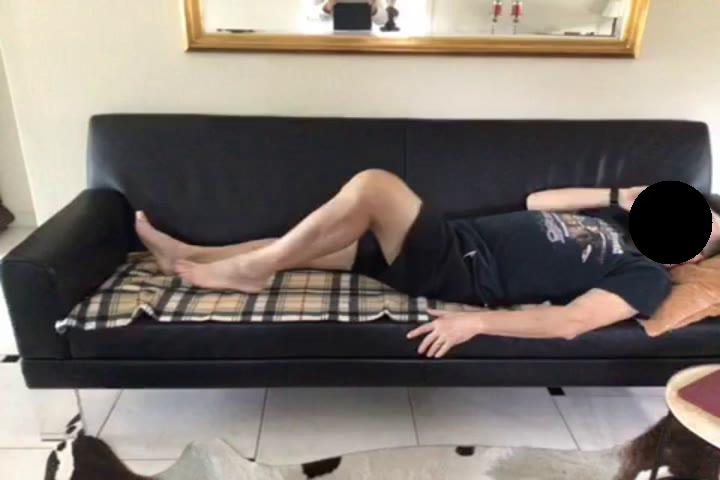lower_body: (135, 167, 505, 308)
